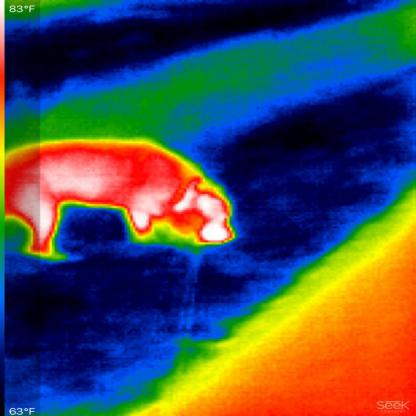dog: (5, 137, 245, 261)
